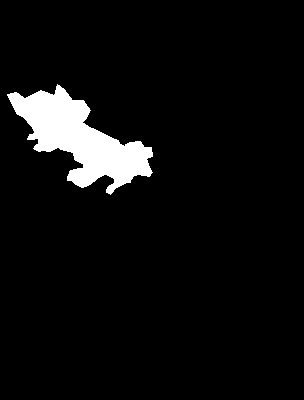Fire: (32, 99, 136, 189)
